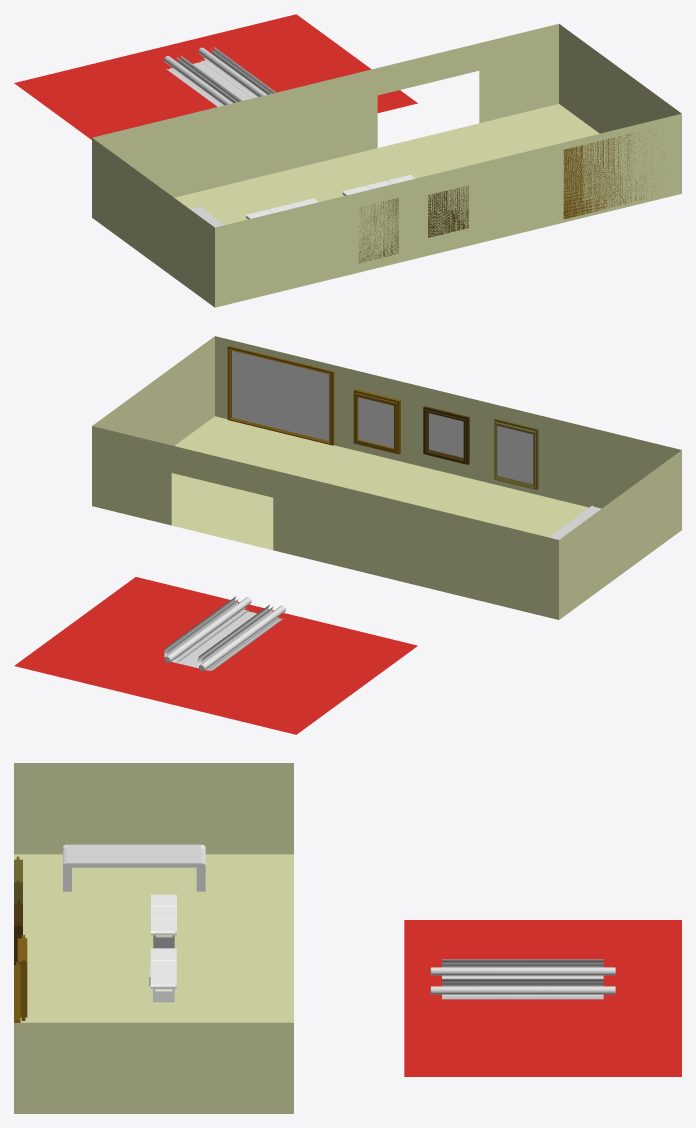
Rendered from 06月團體專案-20250701-02版(導航點+出入口招牌) .glb.
3 views of the same model, one above another, from view 1: azimuth 30°, elevation 25°; view 2: azimuth 150°, elevation 25°; view 3: azimuth 270°, elevation 25° (orthographic). The views are drawn at different scales.
Visible parts, largest first — view 1: 老建築外觀, Plane, 畫框04, BézierCurve, 畫框01, 畫框02, Cylinder.001, Cylinder; view 2: 老建築外觀, Plane, 畫框04, BézierCurve, 畫框02, 畫框03, 畫框01, Cylinder.001, Cylinder; view 3: 老建築外觀, Plane, BézierCurve, 椅子03, Cylinder, Cylinder.001, 椅子01, 椅子02, 畫框03.
Boxes of the visible parts, box(x1,y1,x2,y2) form: 老建築外觀: box(92, 24, 681, 307); Plane: box(14, 14, 417, 139); 畫框04: box(563, 127, 664, 219); BézierCurve: box(166, 47, 276, 106); 畫框01: box(428, 186, 468, 237); 畫框02: box(358, 198, 398, 263); Cylinder.001: box(198, 47, 267, 96); Cylinder: box(164, 56, 232, 105); 老建築外觀: box(92, 336, 681, 619); Plane: box(14, 577, 417, 734); 畫框04: box(227, 346, 334, 445); BézierCurve: box(164, 596, 283, 670); 畫框02: box(494, 418, 538, 489); 畫框03: box(353, 389, 400, 454); 畫框01: box(423, 406, 469, 464); Cylinder.001: box(164, 597, 251, 662); Cylinder: box(199, 605, 285, 671); 老建築外觀: box(14, 763, 293, 1113); Plane: box(404, 920, 681, 1076); BézierCurve: box(442, 959, 603, 999); 椅子03: box(63, 844, 205, 891); Cylinder: box(430, 967, 615, 975); Cylinder.001: box(430, 986, 615, 994); 椅子01: box(150, 948, 176, 1002); 椅子02: box(151, 894, 176, 948); 畫框03: box(17, 935, 27, 1020).
Size of the model in its own units: 12.2 by 2.31 by 13.27.
